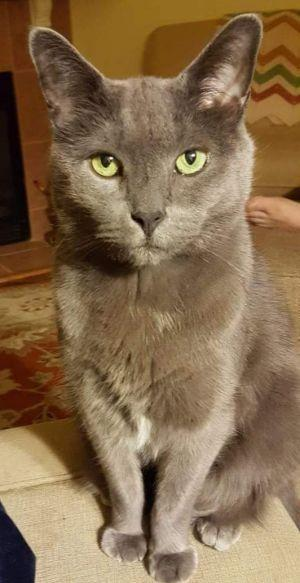rblue: (15, 1, 281, 302)
